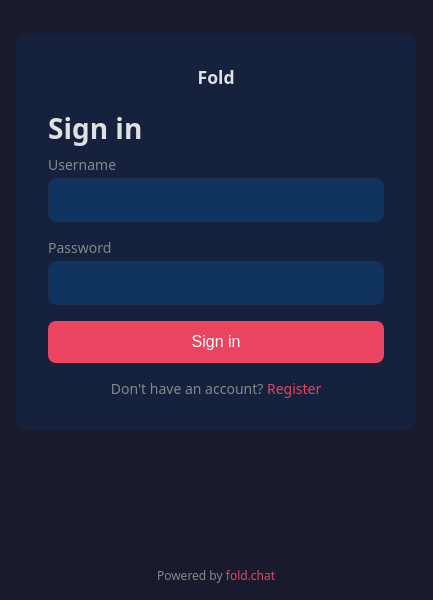
Test: Login error messages › shows banned message on 403 banned error
Type "testuser" into the field labelled "Username" at (216, 200), box [48,178,384,222]
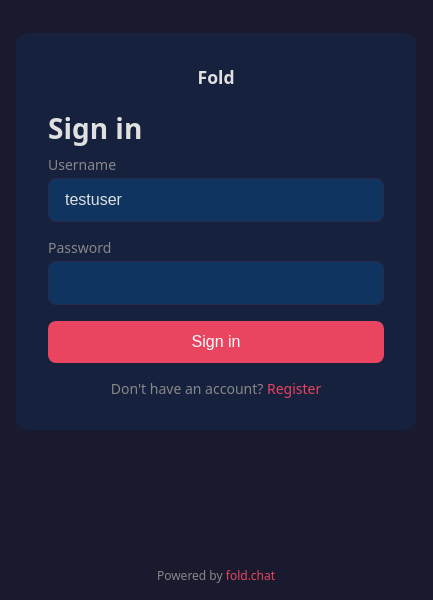
Type "testpass" into the password field labelled "Password" at (216, 283), box [48,261,384,305]
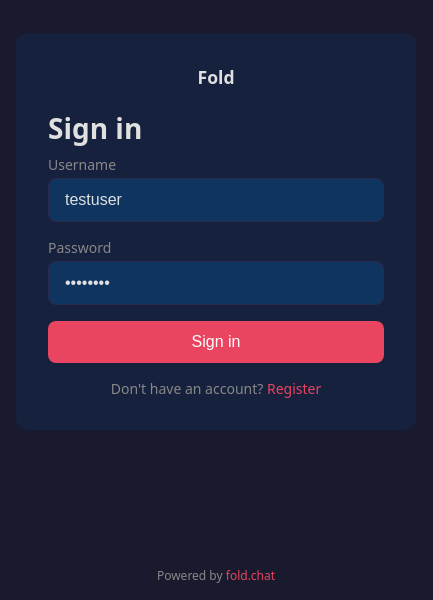
Submit the form labelled "Username", box [48,155,384,363]
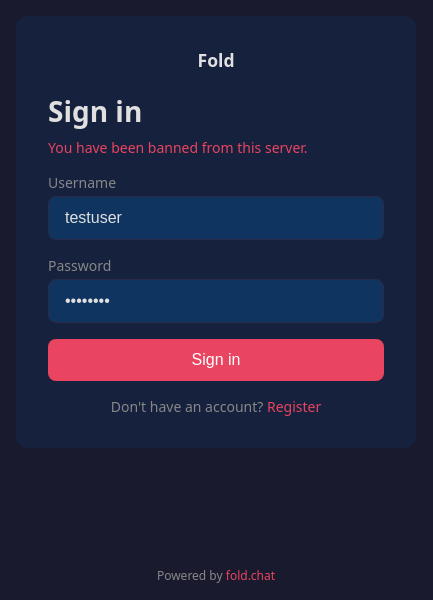
Now the text "You have been banned from this server." is shown, box [48,138,308,156]
